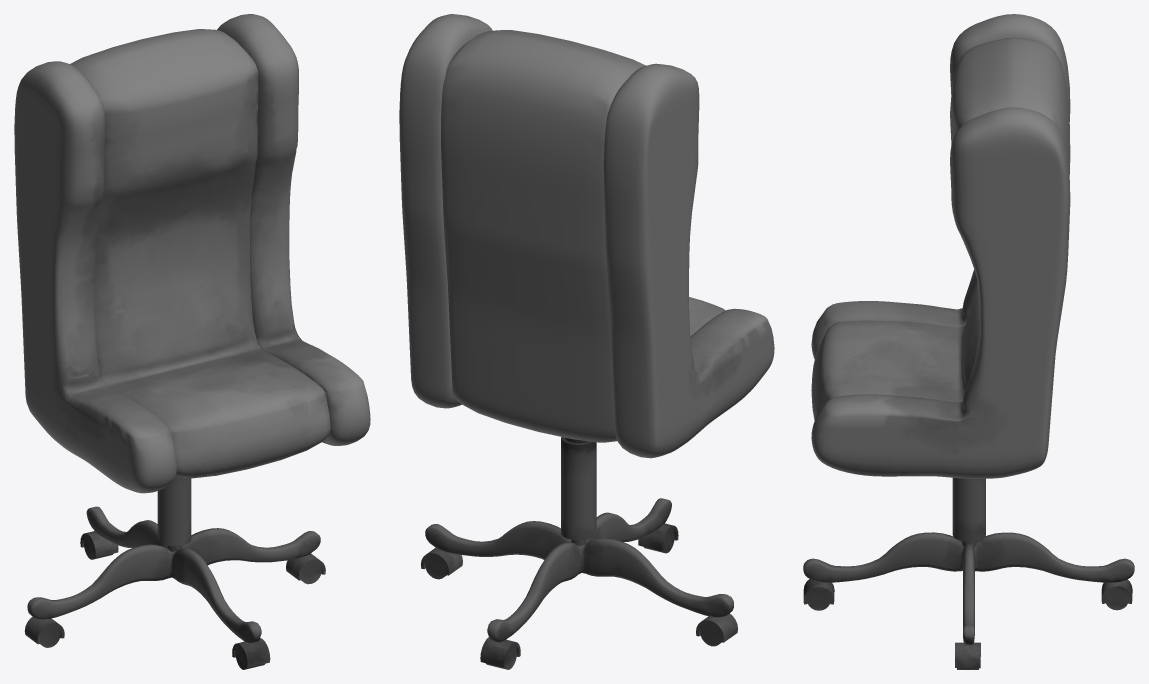
File: chair.fbx
3 renders of one model, left to right at view 1: azimuth 30°, elevation 25°; view 2: azimuth 150°, elevation 25°; view 3: azimuth 270°, elevation 25°, orthographic. The views are drawn at different scales.
Parts seen in each view (by area): view 1: polySurface1, pCylinder9; view 2: polySurface1, pCylinder9; view 3: polySurface1, pCylinder9.
Part boxes in pixels (box(x1,y1,x2,y2)): polySurface1: box(14, 14, 370, 493); pCylinder9: box(24, 477, 325, 669); polySurface1: box(399, 14, 774, 458); pCylinder9: box(420, 437, 737, 669); polySurface1: box(811, 14, 1070, 478); pCylinder9: box(803, 477, 1134, 669).
Bounding box in the file's own units: 92.24 × 167 × 92.24.
Materials: 2 (2 with a texture image).
